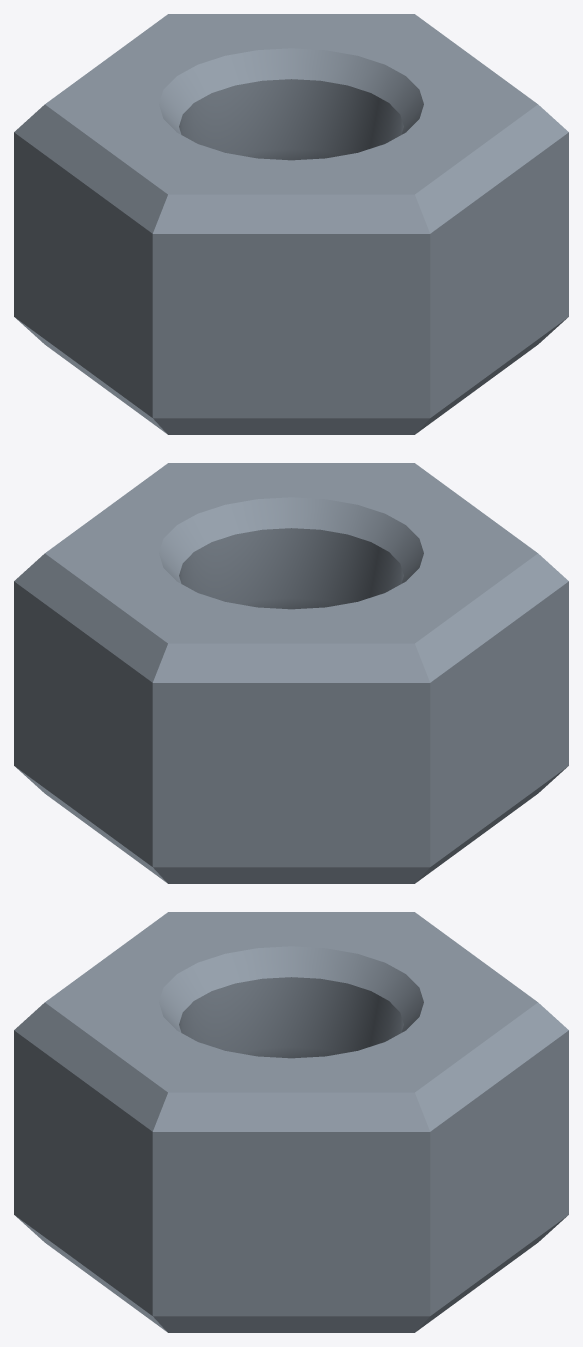
File: SM_HexNut.fbx
3 views of the same model, one above another, from view 1: azimuth 30°, elevation 25°; view 2: azimuth 150°, elevation 25°; view 3: azimuth 270°, elevation 25° (orthographic).
Parts seen in each view (by area): view 1: SM_HexNut; view 2: SM_HexNut; view 3: SM_HexNut.
Part boxes in pixels (x1,y1,x2,y2): SM_HexNut: [14, 14, 568, 434]; SM_HexNut: [14, 463, 568, 883]; SM_HexNut: [14, 912, 568, 1332].
Bounding box in the file's own units: 1.56 × 1.8 × 0.86.
